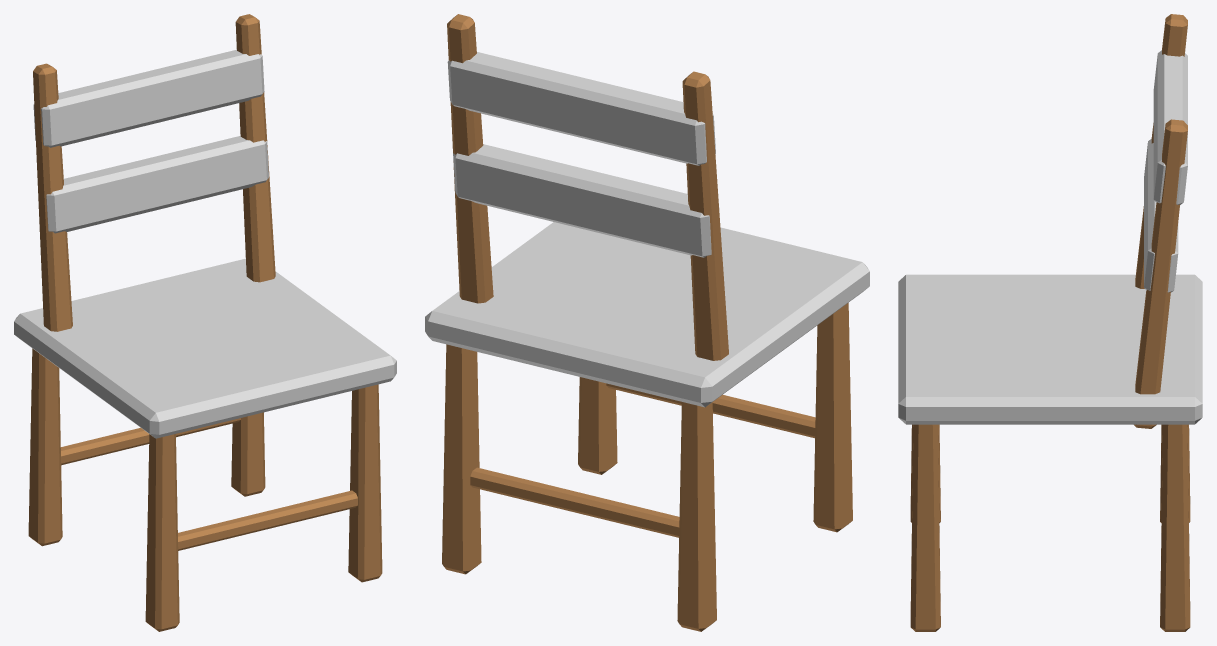
Rendered from kids-chair-sm1.glb.
The picture shows the model from 3 angles, left to right: view 1: azimuth 30°, elevation 25°; view 2: azimuth 150°, elevation 25°; view 3: azimuth 270°, elevation 25°; orthographic projection. The views are drawn at different scales.
Parts seen in each view (by area): view 1: kids-chair-sm1.tint, kids-chair-sm1.wood; view 2: kids-chair-sm1.tint, kids-chair-sm1.wood; view 3: kids-chair-sm1.tint, kids-chair-sm1.wood.
Part boxes in pixels (bbox=[...]): kids-chair-sm1.tint: bbox=[14, 49, 396, 438]; kids-chair-sm1.wood: bbox=[28, 14, 382, 631]; kids-chair-sm1.tint: bbox=[425, 52, 869, 407]; kids-chair-sm1.wood: bbox=[442, 14, 852, 631]; kids-chair-sm1.tint: bbox=[898, 50, 1202, 424]; kids-chair-sm1.wood: bbox=[910, 14, 1190, 631].
Size of the model in its own units: 0.3 by 0.55 by 0.3.
